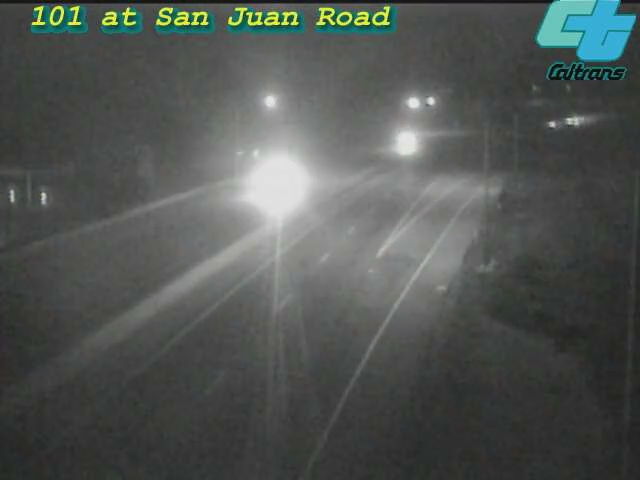vehicle: (230, 144, 310, 224), (379, 119, 429, 169), (561, 94, 611, 144), (526, 100, 576, 150)
